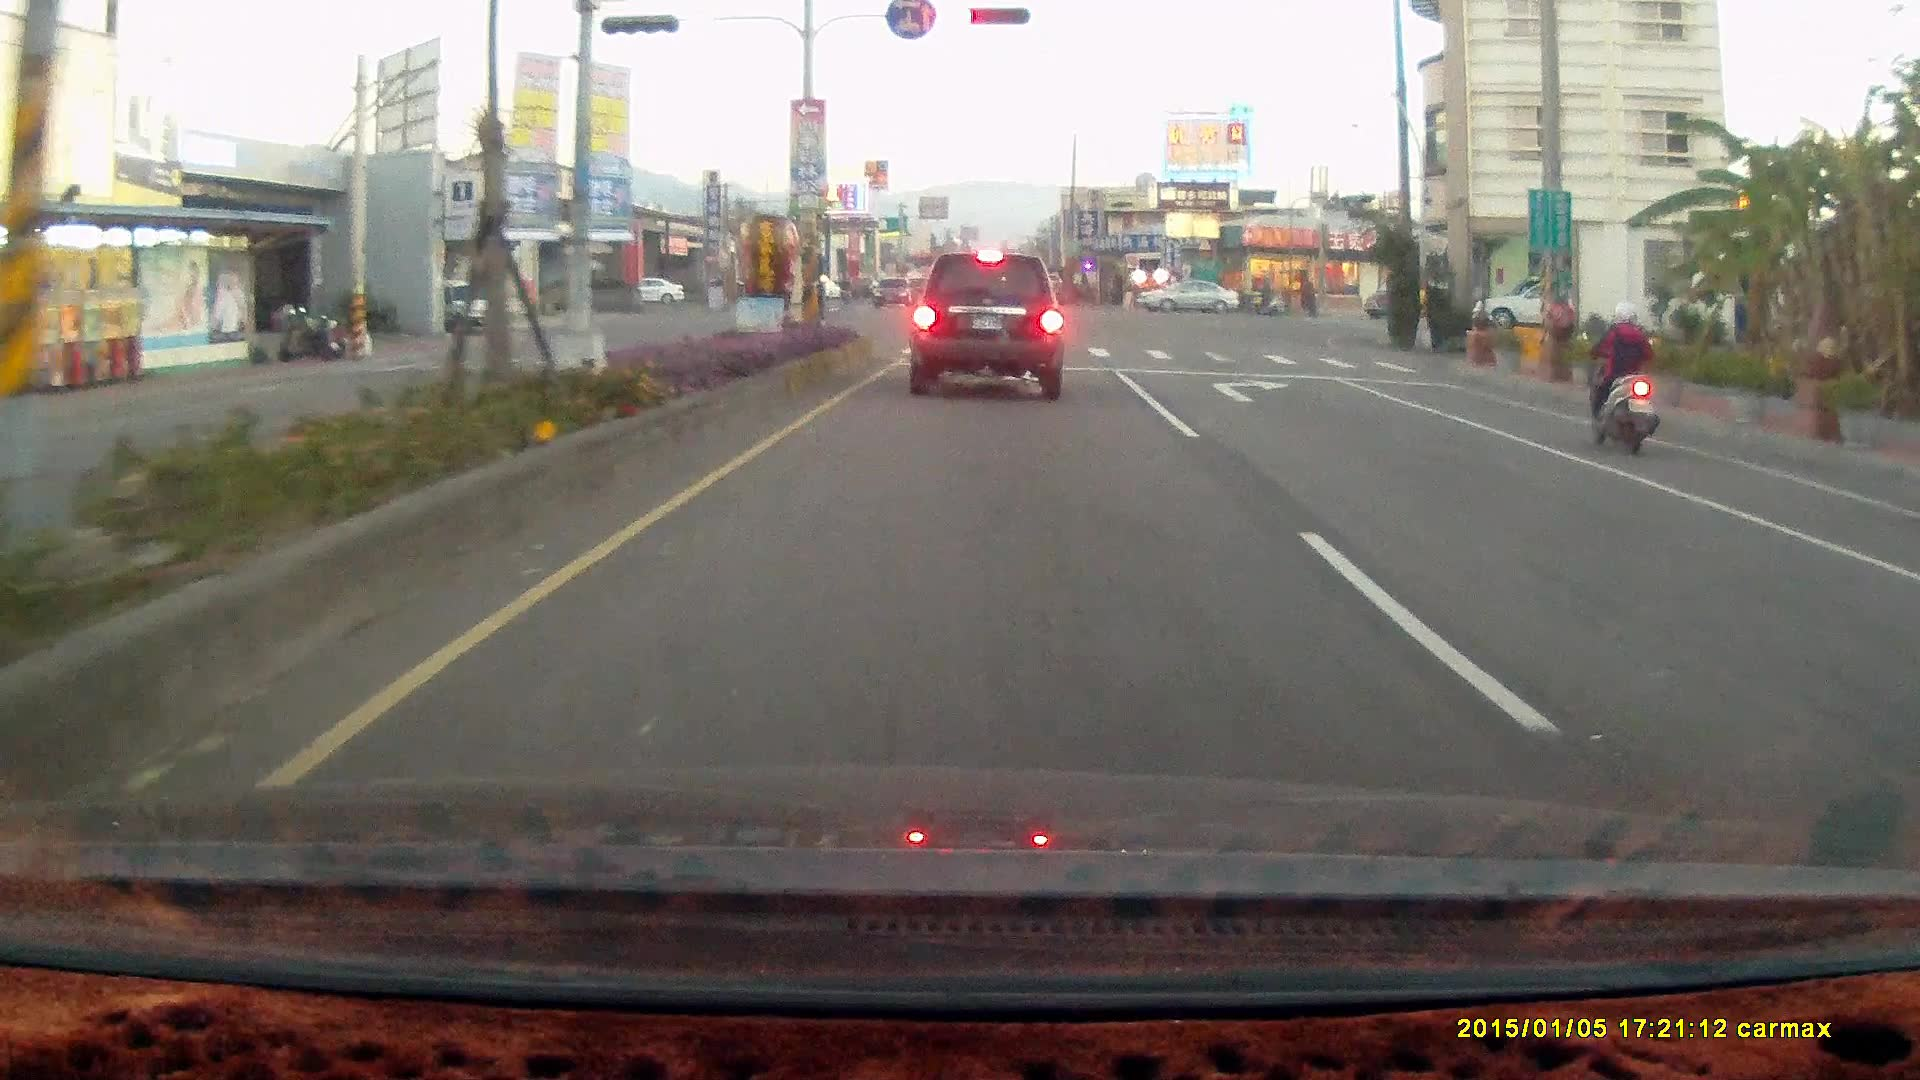rider: (1580, 303, 1661, 462), (1245, 275, 1283, 317)
vehicle: (908, 251, 1065, 399), (1896, 493, 1920, 836), (1473, 274, 1604, 336), (1473, 278, 1591, 339), (1883, 528, 1920, 690), (1134, 279, 1241, 319), (432, 281, 509, 335), (1133, 278, 1240, 315)
